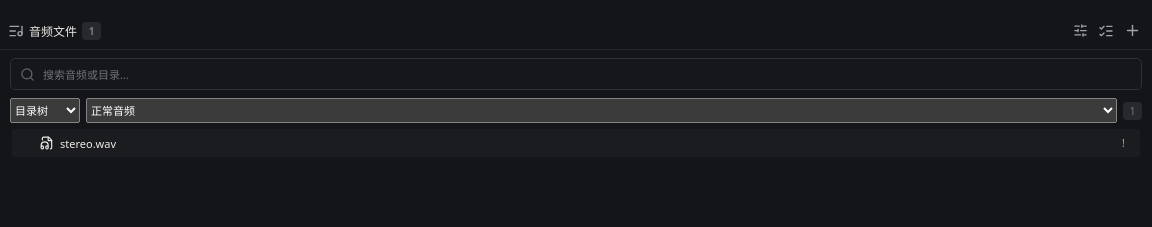
searches real document metadata and preserves missing media notes
expect the text named "源文件缺失" is shown: met, box left=1122, top=136, right=1125, bottom=150
expect the text "stereo.wav" is shown: met, box left=60, top=136, right=116, bottom=150
Type "nothing matches" into the field labelled "搜索音频" at point(588, 74), box left=43, top=66, right=1132, bottom=82
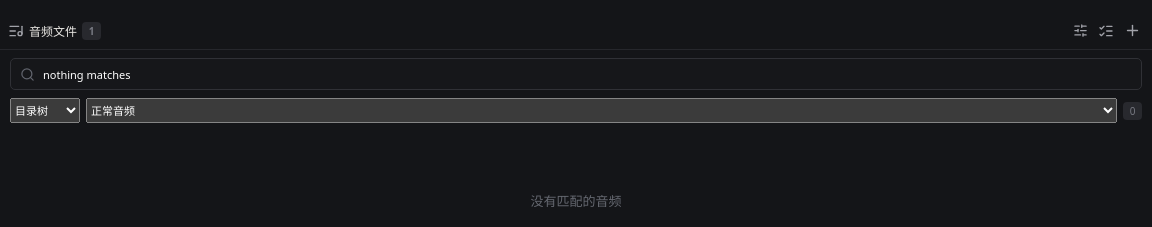
expect the text "没有匹配的音频" is shown: met, box left=530, top=192, right=622, bottom=210
